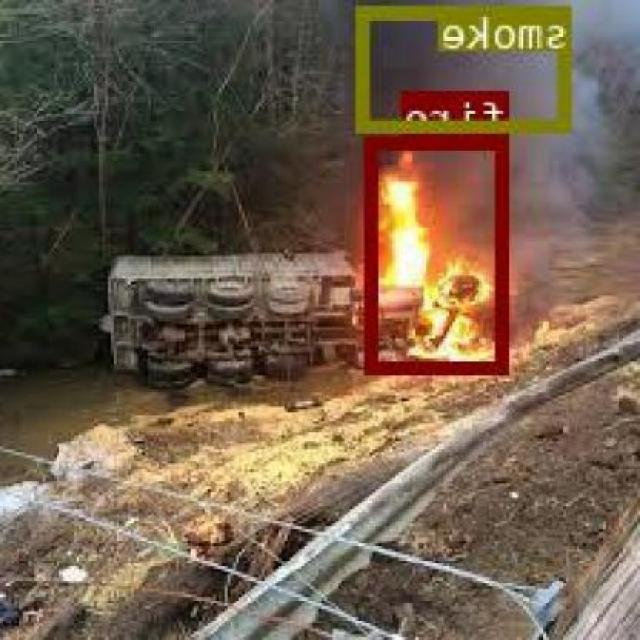Fire: (368, 136, 510, 372)
Smoke: (358, 4, 574, 130)
